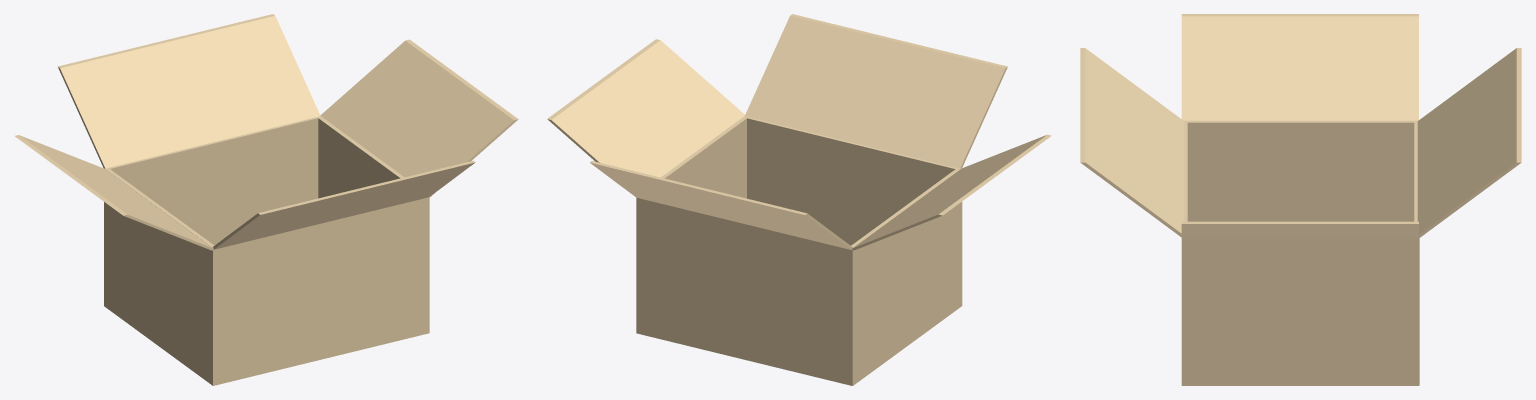
The picture shows the model from 3 angles, left to right: view 1: azimuth 30°, elevation 25°; view 2: azimuth 150°, elevation 25°; view 3: azimuth 270°, elevation 25°; orthographic projection. The views are drawn at different scales.
Visible parts, largest first — view 1: pCube3_3, pCube6_6, pCube9_8, pCube4_4, pCube2_2, pCube8_7, pCube1_1, pCube10_9; view 2: pCube4_4, pCube8_7, pCube9_8, pCube3_3, pCube2_2, pCube6_6, pCube10_9, pCube1_1; view 3: pCube1_1, pCube10_9, pCube2_2, pCube6_6, pCube8_7, pCube9_8, pCube4_4, pCube3_3.
Boxes of the visible parts, x1,y1,x2,y2 form: pCube3_3: (211, 197, 428, 385); pCube6_6: (57, 14, 320, 168); pCube9_8: (320, 39, 518, 197); pCube4_4: (107, 117, 318, 244); pCube2_2: (104, 168, 216, 385); pCube8_7: (213, 160, 475, 249); pCube1_1: (317, 116, 429, 333); pCube10_9: (15, 135, 212, 250); pCube4_4: (636, 197, 852, 385); pCube8_7: (745, 14, 1007, 168); pCube9_8: (547, 39, 744, 177); pCube3_3: (744, 116, 956, 245); pCube2_2: (851, 168, 962, 385); pCube6_6: (590, 161, 852, 249); pCube10_9: (852, 134, 1051, 250); pCube1_1: (661, 116, 747, 198); pCube1_1: (1181, 238, 1418, 385); pCube10_9: (1181, 14, 1418, 120); pCube2_2: (1184, 120, 1417, 221); pCube6_6: (1417, 48, 1521, 237); pCube8_7: (1080, 48, 1184, 237); pCube9_8: (1181, 221, 1418, 238); pCube4_4: (1414, 121, 1419, 385); pCube3_3: (1184, 122, 1187, 221).
Bounding box in the file's own units: 73.3 × 36.33 × 65.1.
